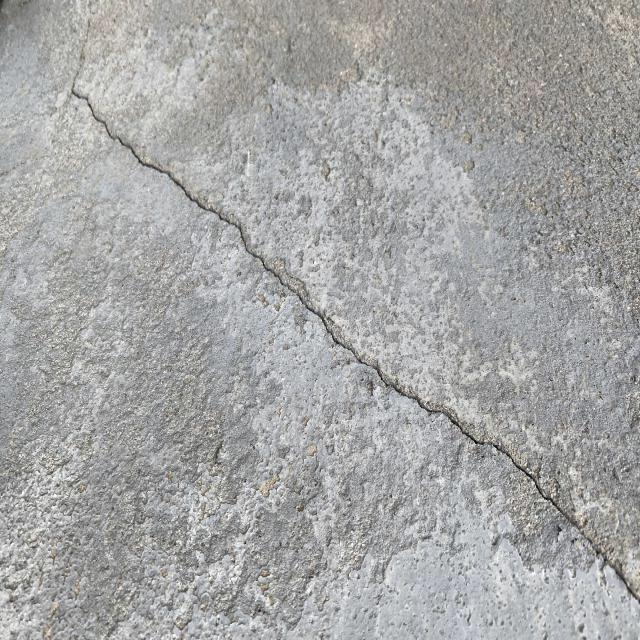SurfaceCrack: (13, 4, 640, 638)
